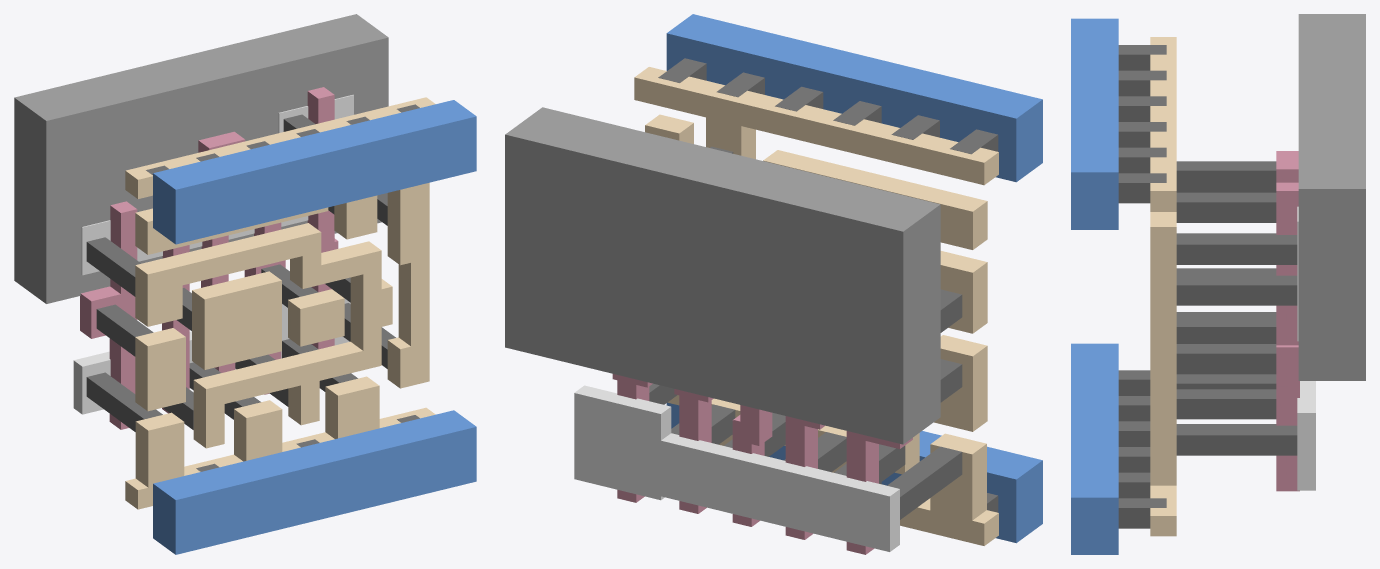
The model's file is sky130_fd_sc_hd__or4_1.gds.gltf.
The picture shows the model from 3 angles, left to right: view 1: azimuth 30°, elevation 25°; view 2: azimuth 150°, elevation 25°; view 3: azimuth 270°, elevation 25°; orthographic projection. The views are drawn at different scales.
Visible parts, largest first — view 1: sky130_fd_sc_hd__or4_1_li1, sky130_fd_sc_hd__or4_1_met1, sky130_fd_sc_hd__or4_1_nwell, sky130_fd_sc_hd__or4_1_licon, sky130_fd_sc_hd__or4_1_poly, sky130_fd_sc_hd__or4_1_diff, sky130_fd_sc_hd__or4_1_mcon; view 2: sky130_fd_sc_hd__or4_1_nwell, sky130_fd_sc_hd__or4_1_li1, sky130_fd_sc_hd__or4_1_met1, sky130_fd_sc_hd__or4_1_diff, sky130_fd_sc_hd__or4_1_poly, sky130_fd_sc_hd__or4_1_licon, sky130_fd_sc_hd__or4_1_mcon; view 3: sky130_fd_sc_hd__or4_1_licon, sky130_fd_sc_hd__or4_1_nwell, sky130_fd_sc_hd__or4_1_met1, sky130_fd_sc_hd__or4_1_li1, sky130_fd_sc_hd__or4_1_mcon, sky130_fd_sc_hd__or4_1_poly, sky130_fd_sc_hd__or4_1_diff.
Part boxes in pixels (x1=…): sky130_fd_sc_hd__or4_1_li1: x1=125, y1=97, x2=435, y2=509; sky130_fd_sc_hd__or4_1_met1: x1=153, y1=100, x2=476, y2=554; sky130_fd_sc_hd__or4_1_nwell: x1=14, y1=14, x2=388, y2=303; sky130_fd_sc_hd__or4_1_licon: x1=86, y1=114, x2=395, y2=431; sky130_fd_sc_hd__or4_1_poly: x1=80, y1=87, x2=338, y2=429; sky130_fd_sc_hd__or4_1_diff: x1=73, y1=94, x2=353, y2=414; sky130_fd_sc_hd__or4_1_mcon: x1=146, y1=104, x2=419, y2=471; sky130_fd_sc_hd__or4_1_nwell: x1=505, y1=107, x2=940, y2=444; sky130_fd_sc_hd__or4_1_li1: x1=634, y1=67, x2=998, y2=545; sky130_fd_sc_hd__or4_1_met1: x1=666, y1=14, x2=1042, y2=543; sky130_fd_sc_hd__or4_1_diff: x1=574, y1=385, x2=899, y2=551; sky130_fd_sc_hd__or4_1_poly: x1=612, y1=374, x2=912, y2=554; sky130_fd_sc_hd__or4_1_licon: x1=649, y1=146, x2=962, y2=519; sky130_fd_sc_hd__or4_1_mcon: x1=658, y1=58, x2=998, y2=512; sky130_fd_sc_hd__or4_1_licon: x1=1176, y1=161, x2=1297, y2=455; sky130_fd_sc_hd__or4_1_nwell: x1=1298, y1=14, x2=1365, y2=380; sky130_fd_sc_hd__or4_1_met1: x1=1071, y1=18, x2=1118, y2=554; sky130_fd_sc_hd__or4_1_li1: x1=1150, y1=37, x2=1176, y2=536; sky130_fd_sc_hd__or4_1_mcon: x1=1118, y1=45, x2=1166, y2=528; sky130_fd_sc_hd__or4_1_poly: x1=1276, y1=151, x2=1299, y2=491; sky130_fd_sc_hd__or4_1_diff: x1=1297, y1=206, x2=1315, y2=490.
Bounding box in the file's own units: 3.14 × 3.2 × 2.24.
